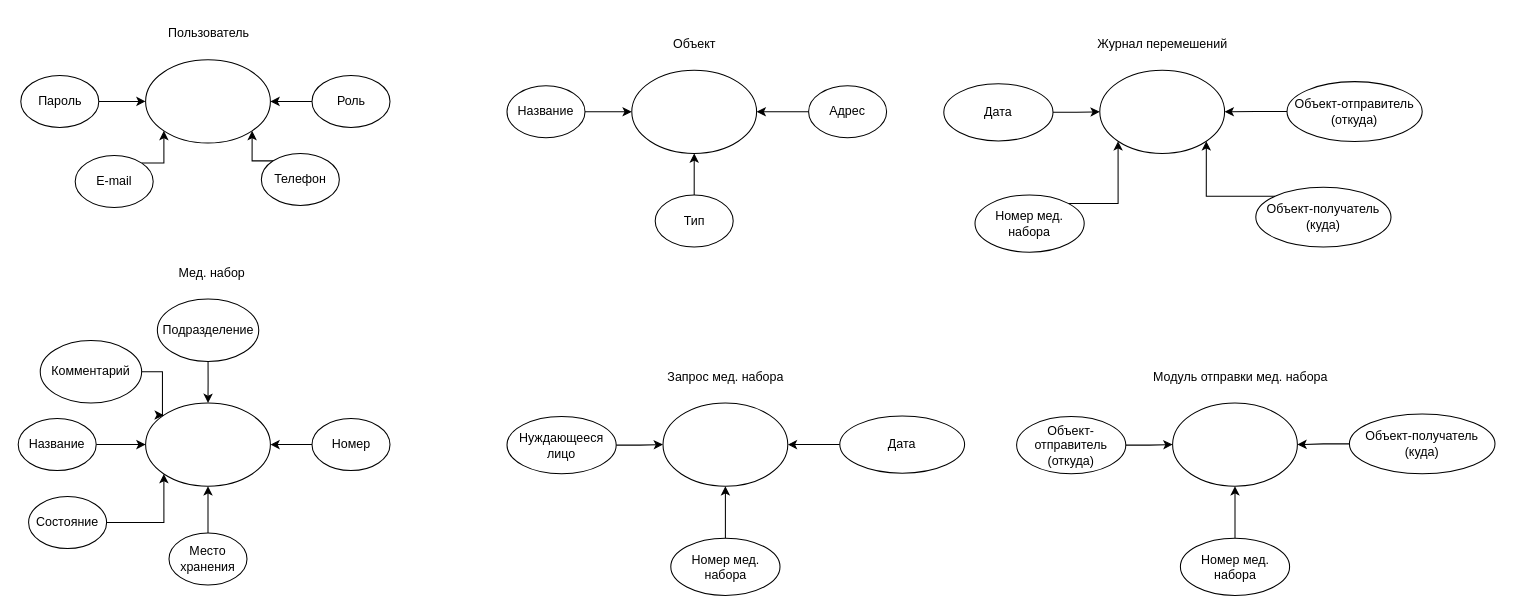
Some shapes in this 1513 by 614 pixel diagram are drawn without their labels. Each missing label, with the centre of its shape:
"ID" belongs at point (1234, 444).
"ID журнала" belongs at point (1162, 111).
"ID запроса" belongs at point (725, 444).
"ID набора" belongs at point (207, 444).
"ID объекта" belongs at point (694, 111).
"Логин" belongs at point (207, 101).
